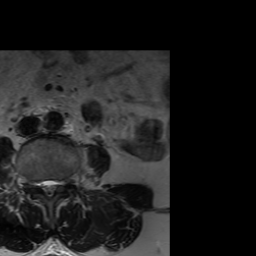CCS_normal: (45, 171, 52, 205)
LFS_stenosis: (60, 170, 68, 193)
LLS_stenosis: (52, 171, 60, 198)
RFS_stenosis: (29, 171, 37, 197)
RLS_stenosis: (37, 172, 45, 197)
